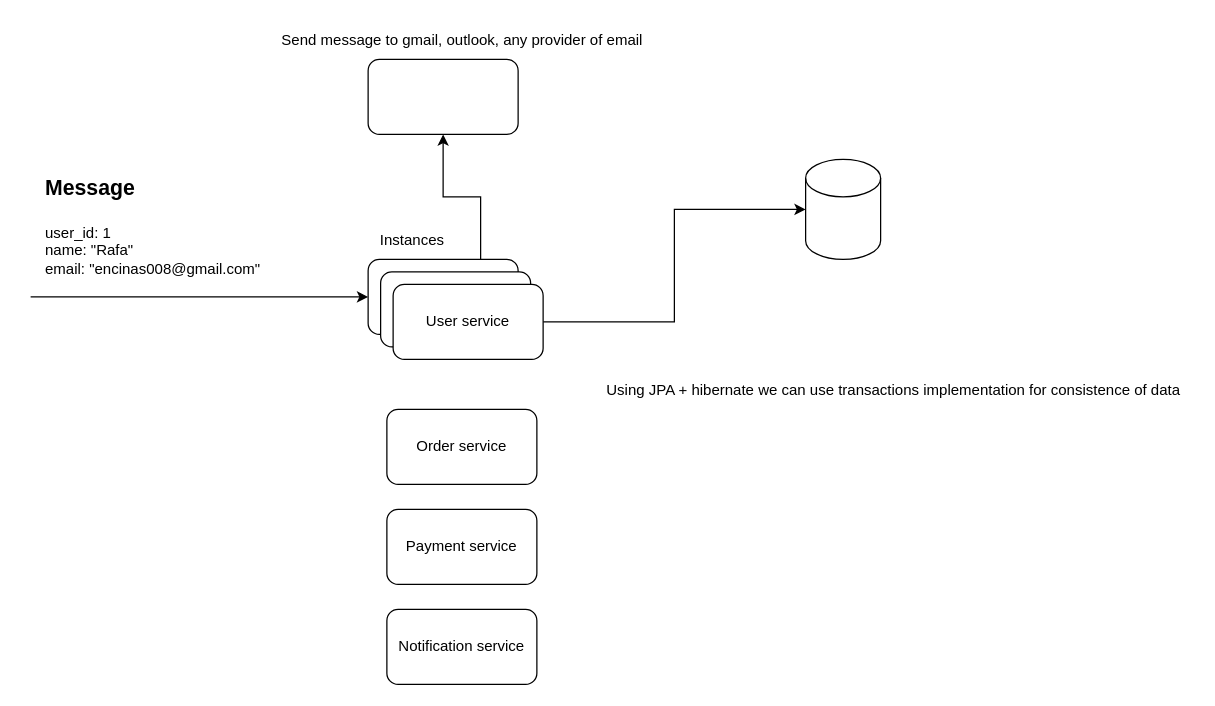
Some shapes in this 1215 by 706 pixel diagram are drawn without their labels. The shapes that lost their labels are listed below. From the top down, each one's box as (x1, y1, x2, y2) in pixels, then its label:
(367, 58, 518, 134): Email Service
(804, 158, 881, 259): Mysql
